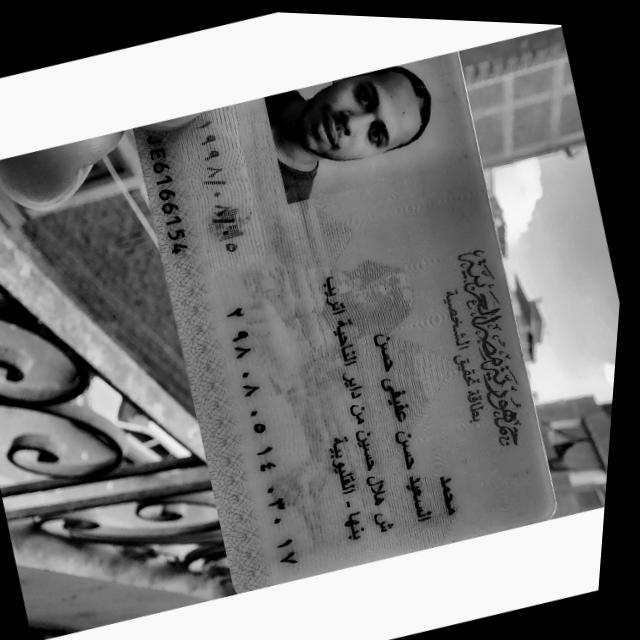id_card: (82, 35, 590, 612)
